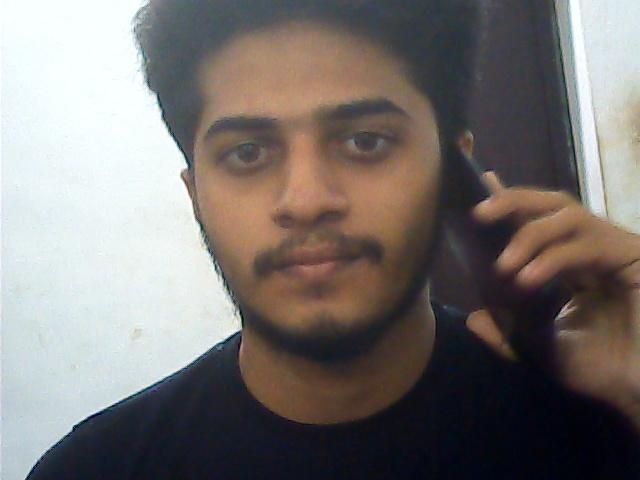PhoneUse: (441, 148, 575, 372)
SafeDriving: (321, 110, 408, 166), (206, 123, 292, 179)
